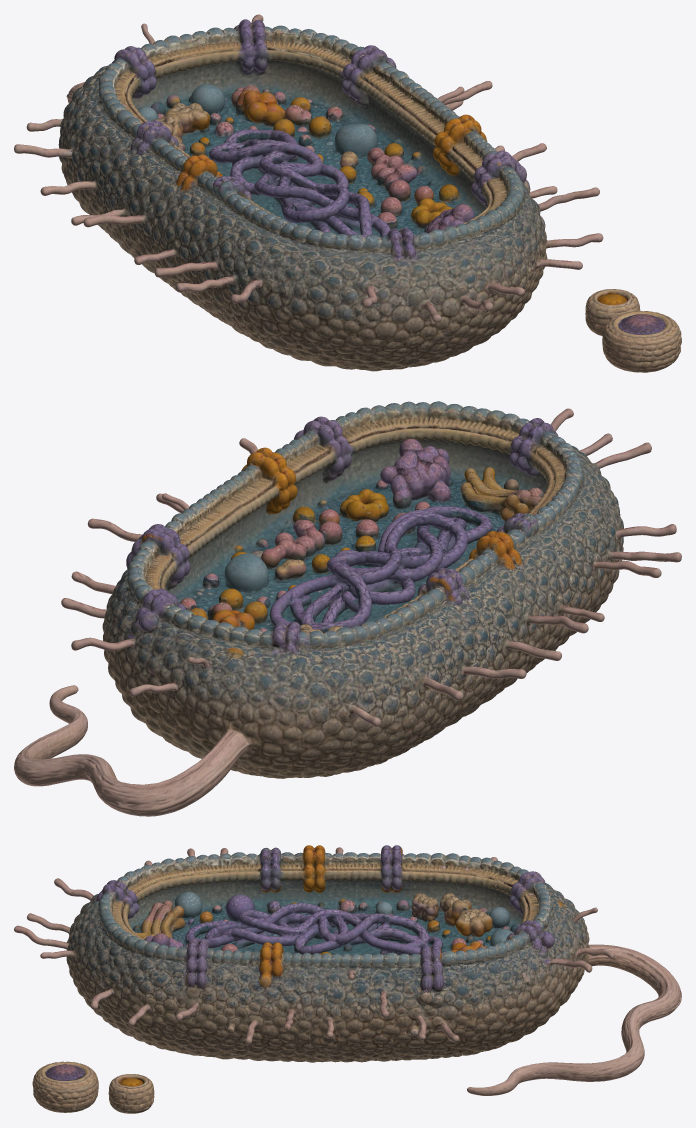
Rendered from luca-tripo-web.glb.
3 views of the same model, one above another, from view 1: azimuth 30°, elevation 25°; view 2: azimuth 150°, elevation 25°; view 3: azimuth 270°, elevation 25° (orthographic). The views are drawn at different scales.
Parts seen in each view (by area): view 1: tripo_node_60622b9c-b280-442d-981f-61bf13b68a31; view 2: tripo_node_60622b9c-b280-442d-981f-61bf13b68a31; view 3: tripo_node_60622b9c-b280-442d-981f-61bf13b68a31.
Part boxes in pixels (x1,y1,x2,y2): tripo_node_60622b9c-b280-442d-981f-61bf13b68a31: (14,14,681,372); tripo_node_60622b9c-b280-442d-981f-61bf13b68a31: (14,401,681,816); tripo_node_60622b9c-b280-442d-981f-61bf13b68a31: (14,845,681,1113).
Size of the model in its own units: 0.6129 by 0.2219 by 0.9797.
1 material, 1 textured.
